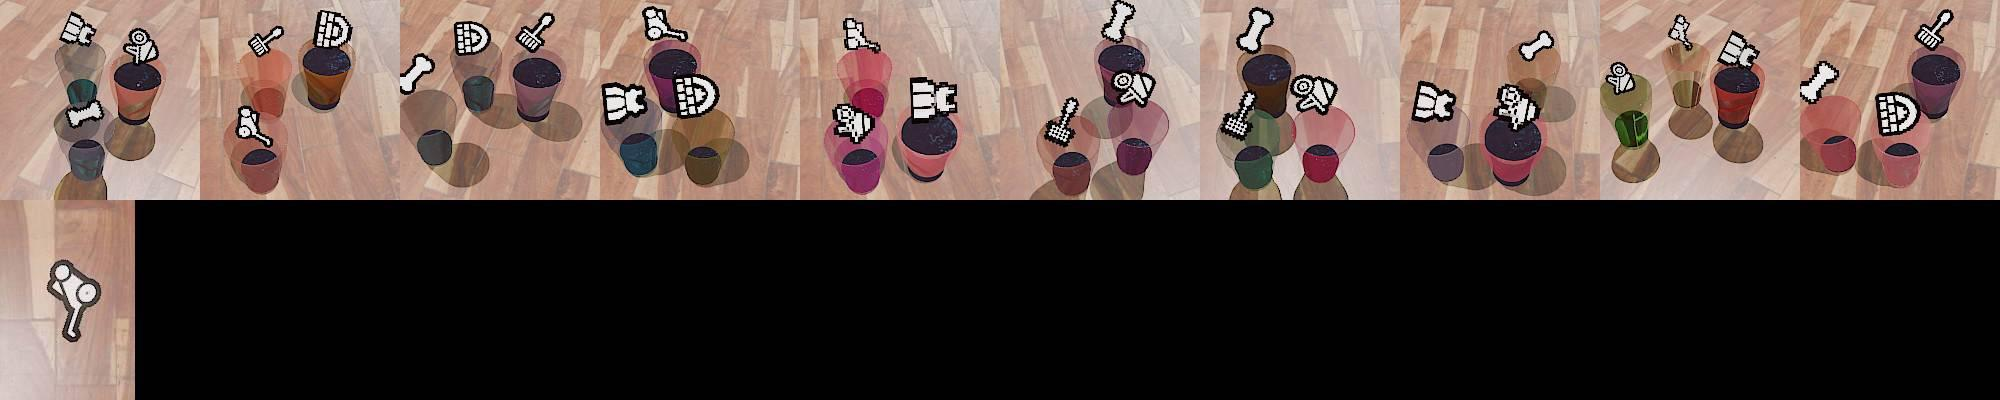icon: (47, 260, 107, 345), (909, 75, 958, 121), (672, 73, 721, 119), (1290, 73, 1341, 116), (1219, 89, 1259, 142), (1494, 84, 1539, 130), (1875, 91, 1920, 136), (603, 81, 649, 125), (1411, 80, 1458, 123), (1798, 60, 1840, 105), (831, 101, 876, 143), (643, 5, 690, 45), (1237, 6, 1275, 55), (1914, 8, 1955, 53), (516, 11, 557, 55), (1716, 30, 1761, 70), (234, 105, 274, 149), (1112, 69, 1156, 108), (1048, 95, 1081, 146), (1101, 0, 1138, 45), (398, 53, 436, 96), (841, 14, 880, 53), (315, 9, 352, 49), (124, 27, 161, 64), (60, 11, 97, 48), (64, 97, 107, 128), (454, 19, 490, 56), (248, 23, 286, 58), (1518, 29, 1555, 63), (1605, 61, 1636, 95), (1668, 14, 1693, 52)
